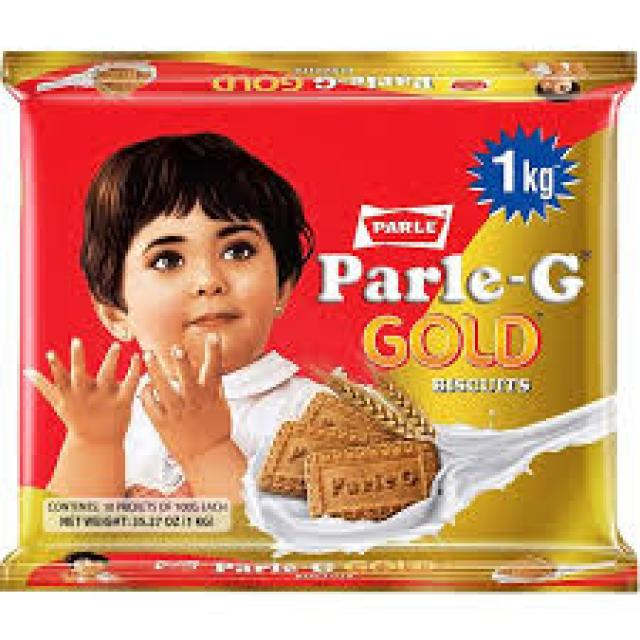parle_g: (16, 57, 637, 616)
